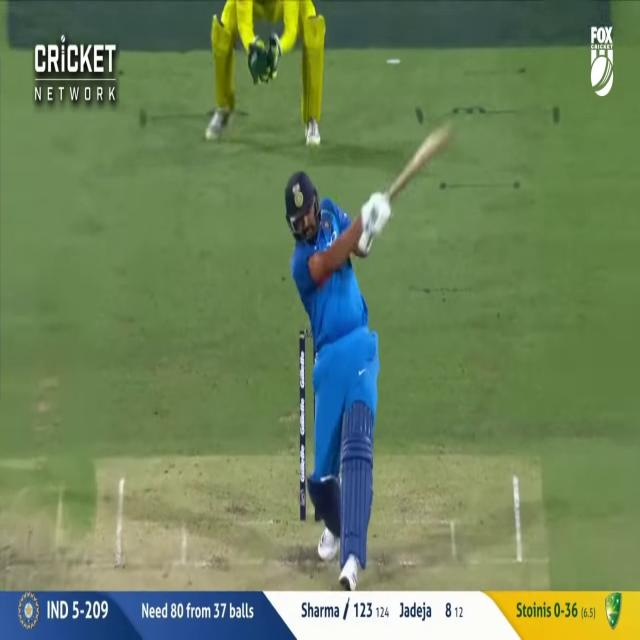stump: (301, 329, 322, 512)
